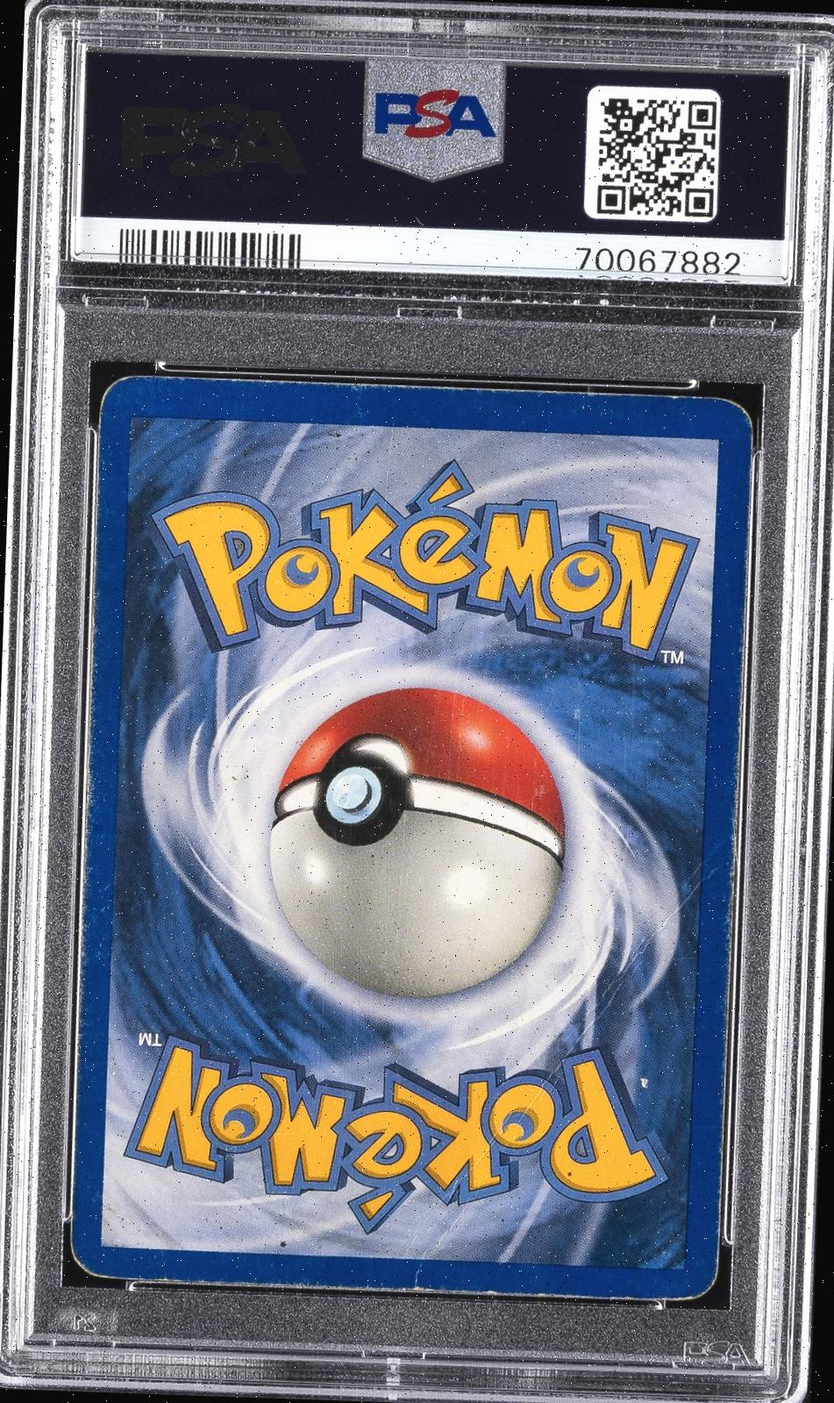card-2UtV: (69, 374, 753, 1301)
